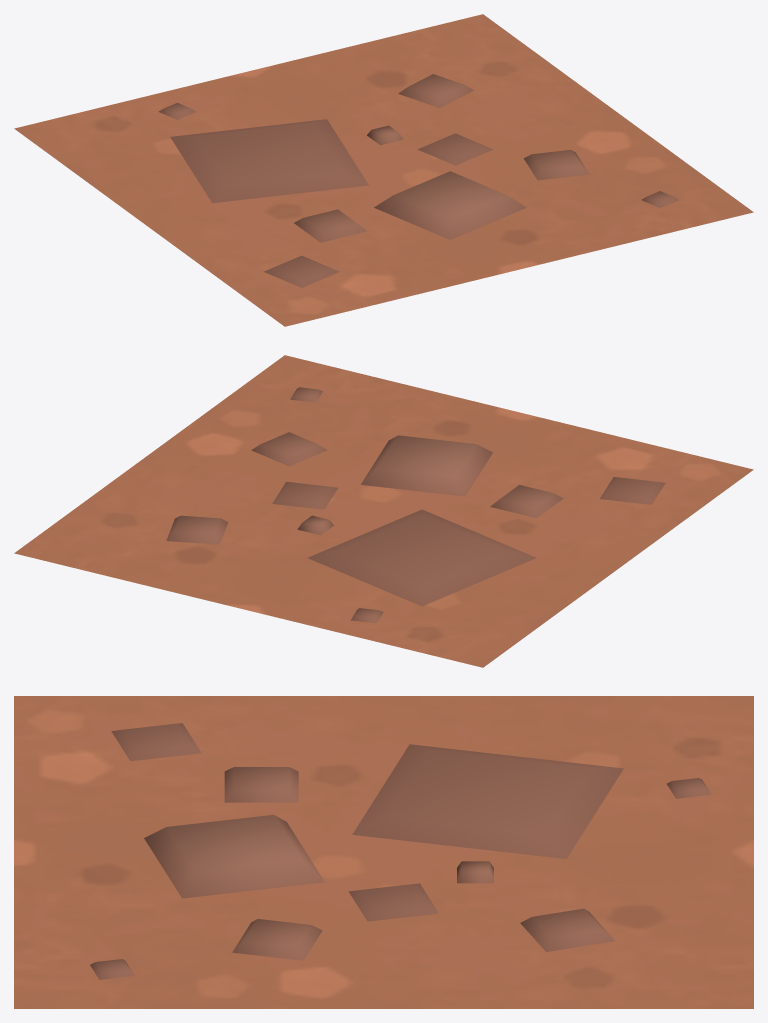
File: template-floor-detail.glb
3 renders of one model, top to bottom at view 1: azimuth 30°, elevation 25°; view 2: azimuth 150°, elevation 25°; view 3: azimuth 270°, elevation 25°, orthographic. The views are drawn at different scales.
Visible parts, largest first — view 1: template-floor-detail; view 2: template-floor-detail; view 3: template-floor-detail.
Boxes of the visible parts, box(x1,y1,x2,y2) form: template-floor-detail: box(14, 14, 753, 326); template-floor-detail: box(14, 355, 753, 667); template-floor-detail: box(14, 696, 753, 1008).
Bounding box in the file's own units: 4 × 0.1 × 4.
1 material, 1 textured.
